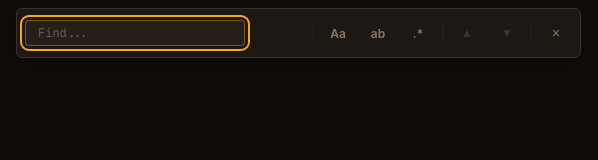
Test: TerminalSearchBar › shows "No results" when result count is 0
Type "nonexistent" into the field with placeholder "Find...". click: x=135, y=33
box: [25,20,245,46]
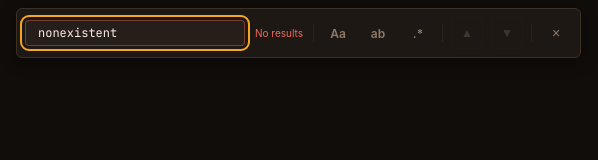
Check: the text "No results" is shown, box [253,27,305,39]
